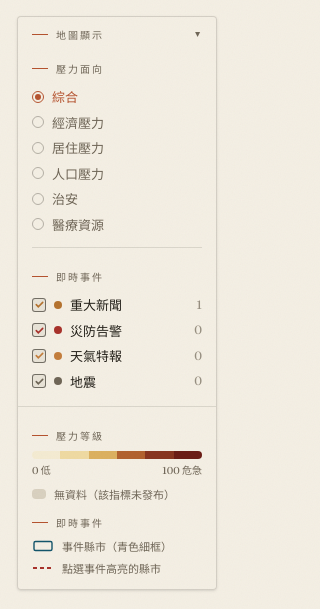
Test: LayerControl › collapses when the header is clicked
Expected: the button "綜合" is shown, [32,84,202,110]
Click the button "地圖顯示 ▸" at (117,34), box [18,17,216,50]
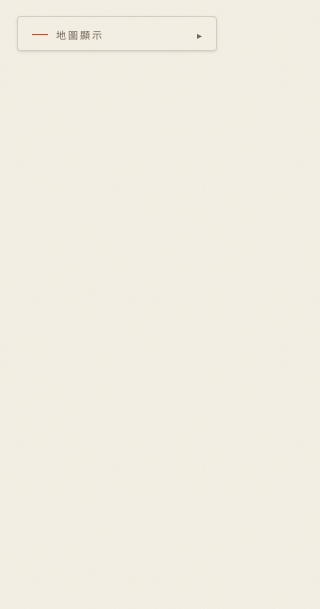
Now the button "綜合" is gone
